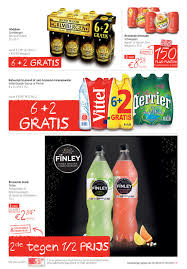not-coke: (84, 143, 140, 253)
